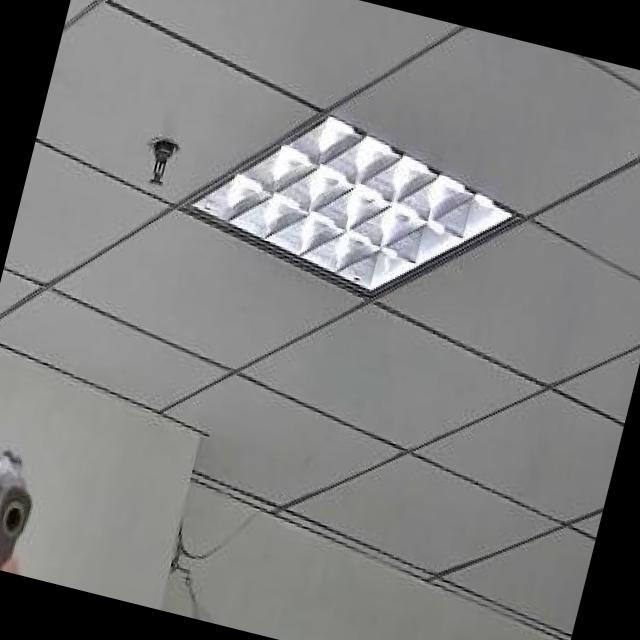Guns: (0, 382, 85, 580)
